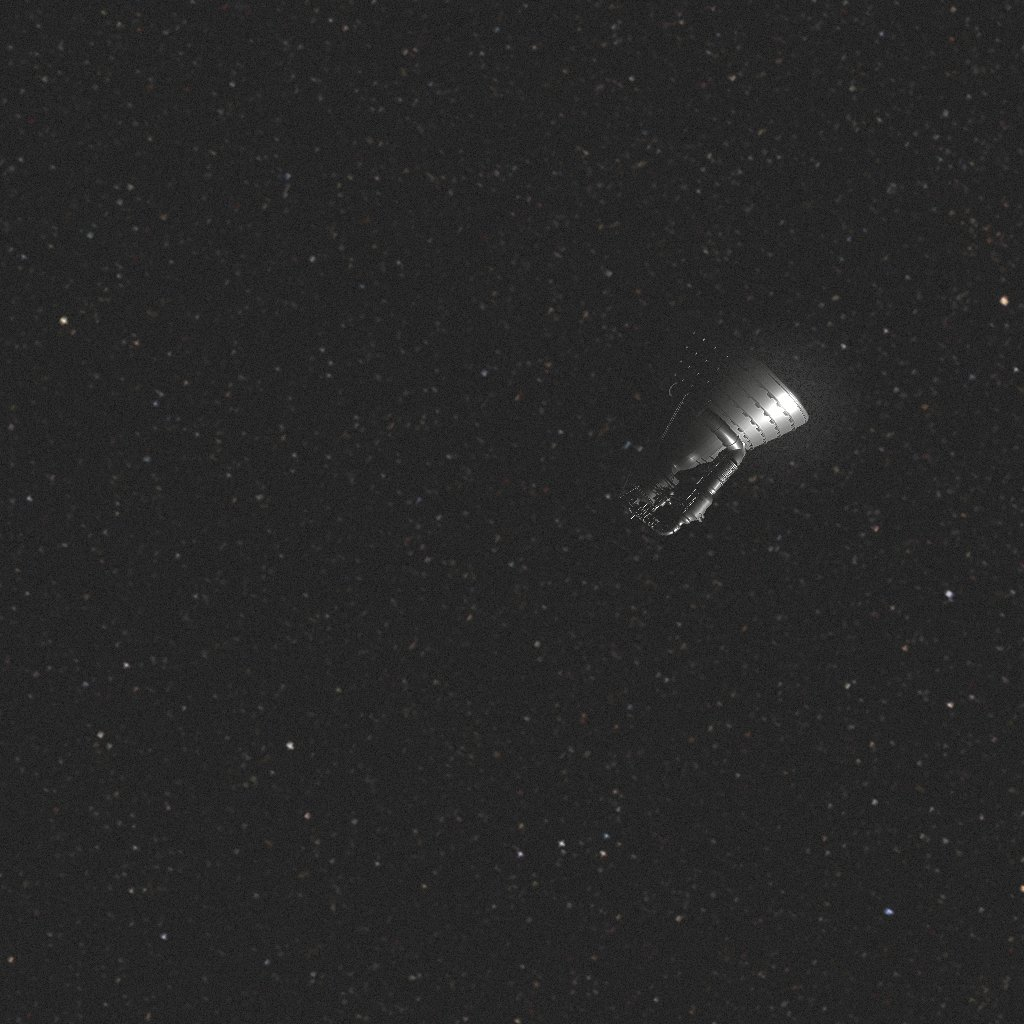debris: (618, 308, 809, 535)
